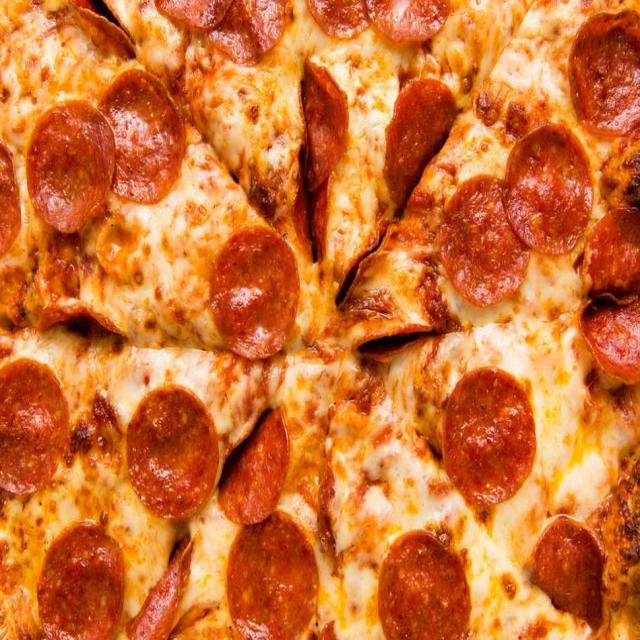pepperoni: (441, 362, 536, 507), (22, 102, 117, 242), (95, 62, 188, 202), (126, 384, 220, 520), (225, 510, 322, 640), (210, 218, 296, 360), (505, 121, 593, 259), (37, 515, 130, 637), (378, 528, 479, 640), (440, 174, 523, 309), (0, 354, 69, 494), (569, 6, 640, 140), (528, 516, 611, 623), (218, 400, 290, 521), (157, 0, 298, 59), (386, 74, 452, 198), (131, 539, 200, 640), (305, 0, 454, 45), (576, 294, 640, 393), (302, 53, 349, 185), (586, 206, 636, 308)
